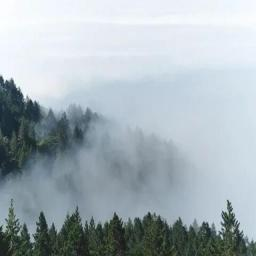Heavy smoke: (1, 0, 256, 243)
